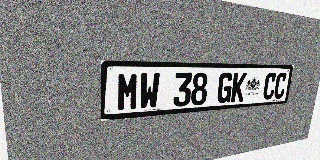3: (173, 73, 193, 107)
8: (190, 73, 209, 106)
C: (262, 73, 277, 100), (273, 73, 288, 99)
G: (216, 73, 234, 104)
K: (230, 73, 247, 102)
M: (117, 73, 139, 112)
W: (139, 73, 160, 110)
